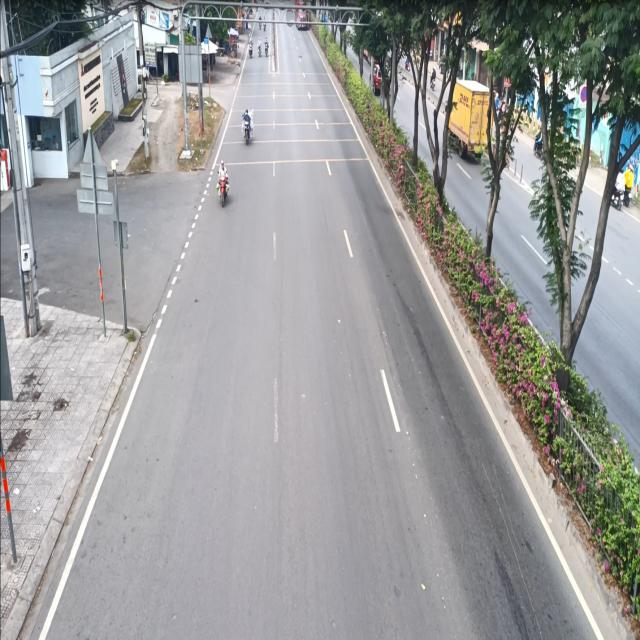motor: (214, 156, 234, 212), (242, 110, 254, 152)
